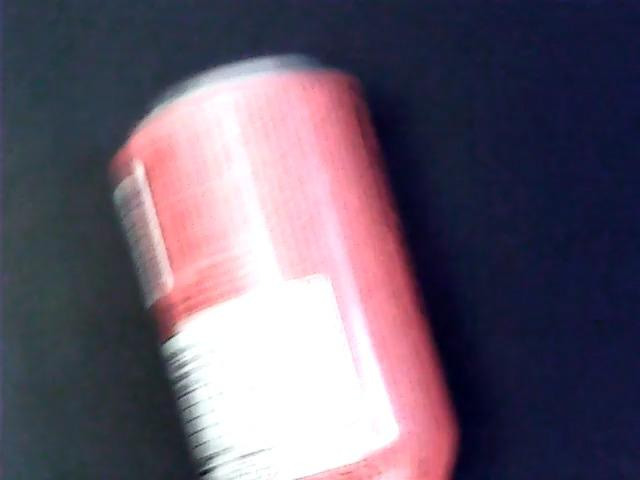coke: (108, 47, 465, 477)
